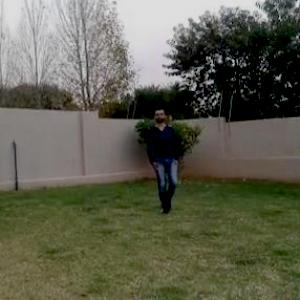follow: (152, 107, 179, 215)
